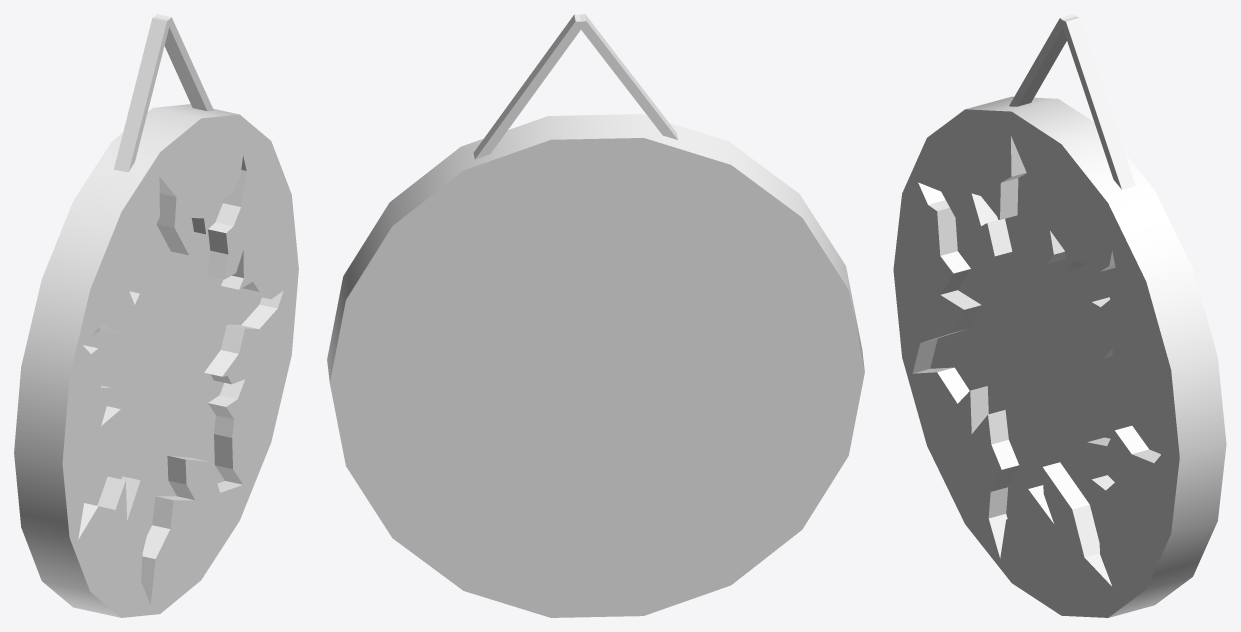
The model's file is mosaicBaseFinal.FBX.
3 renders of one model, left to right at view 1: azimuth 30°, elevation 25°; view 2: azimuth 150°, elevation 25°; view 3: azimuth 270°, elevation 25°, orthographic. The views are drawn at different scales.
Visible parts, largest first — view 1: Cylinder006; view 2: Cylinder006; view 3: Cylinder006.
Boxes of the visible parts, left/top/right/bottom form: Cylinder006: left=14, top=14, right=298, bottom=617; Cylinder006: left=327, top=14, right=864, bottom=617; Cylinder006: left=893, top=14, right=1226, bottom=617.
Size of the model in its own units: 30.48 by 41.16 by 21.4.
